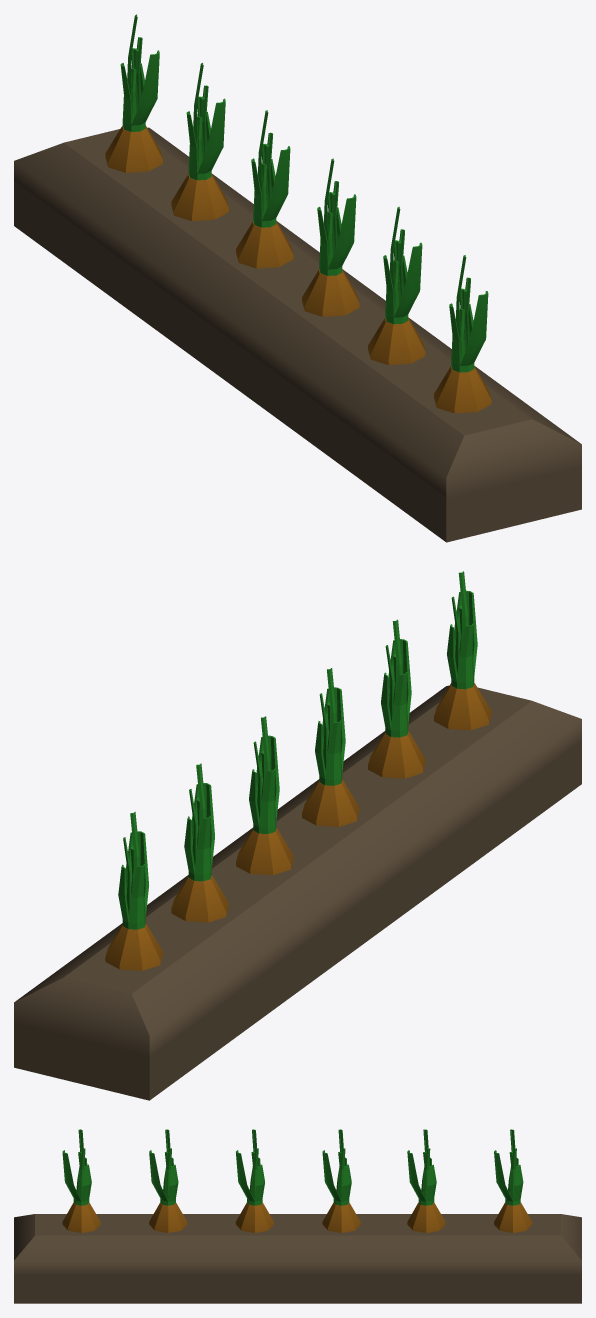
The model's file is garden_carrots.fbx.
3 views of the same model, one above another, from view 1: azimuth 30°, elevation 25°; view 2: azimuth 150°, elevation 25°; view 3: azimuth 270°, elevation 25° (orthographic). The views are drawn at different scales.
Parts seen in each view (by area): view 1: pCube1, pCylinder8, pCylinder3, pCylinder6, pCylinder4, pCylinder5, pCylinder7; view 2: pCube1, pCylinder8, pCylinder5, pCylinder7, pCylinder3, pCylinder4, pCylinder6; view 3: pCube1, pCylinder7, pCylinder5, pCylinder3, pCylinder4, pCylinder8, pCylinder6.
Part boxes in pixels (x1,y1,x2,y2): pCube1: [14, 127, 581, 542]; pCylinder8: [171, 63, 228, 221]; pCylinder3: [433, 255, 491, 413]; pCylinder6: [302, 158, 359, 316]; pCylinder4: [368, 206, 425, 365]; pCylinder5: [236, 110, 293, 268]; pCylinder7: [105, 14, 162, 172]; pCube1: [14, 685, 581, 1100]; pCylinder8: [171, 763, 228, 922]; pCylinder5: [236, 716, 293, 875]; pCylinder7: [105, 811, 162, 970]; pCylinder3: [433, 571, 491, 730]; pCylinder4: [368, 619, 425, 778]; pCylinder6: [302, 668, 359, 826]; pCube1: [14, 1214, 581, 1303]; pCylinder7: [494, 1129, 532, 1232]; pCylinder5: [322, 1129, 360, 1232]; pCylinder3: [62, 1129, 100, 1232]; pCylinder4: [149, 1129, 187, 1232]; pCylinder8: [407, 1129, 445, 1232]; pCylinder6: [235, 1129, 273, 1232].
Size of the model in its own units: 1.18 by 1.93 by 6.51.
